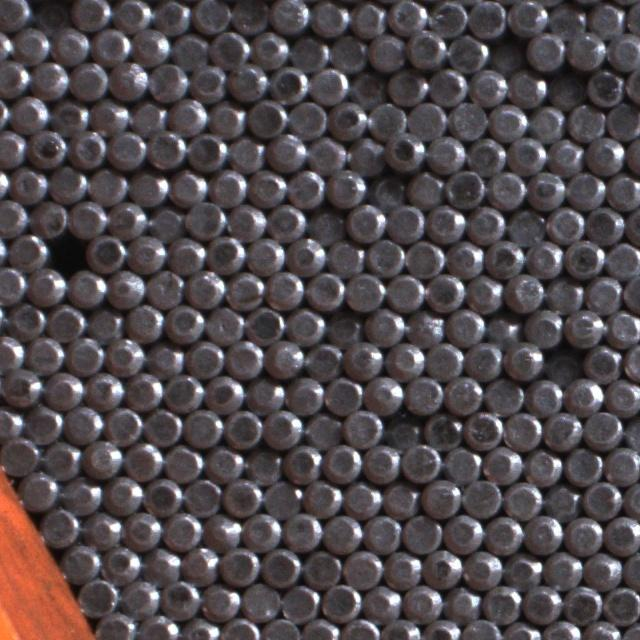tool: (38, 505, 79, 546), (26, 126, 66, 167), (60, 474, 101, 514), (386, 130, 426, 171), (60, 542, 100, 583), (482, 582, 522, 623), (422, 547, 462, 587), (502, 478, 542, 518), (261, 546, 301, 586), (582, 408, 622, 448), (466, 204, 506, 244), (582, 550, 622, 590), (446, 168, 486, 208), (321, 579, 361, 619), (364, 374, 404, 414), (200, 580, 240, 620), (504, 272, 544, 312), (47, 163, 87, 203), (442, 511, 482, 551), (161, 508, 201, 548), (264, 338, 304, 378), (462, 476, 502, 516), (448, 32, 488, 72), (240, 580, 280, 620), (462, 549, 502, 589), (382, 548, 422, 588), (406, 28, 446, 68), (81, 508, 121, 548), (85, 232, 125, 272), (184, 198, 224, 238), (160, 578, 200, 618), (524, 238, 564, 278), (565, 29, 605, 69), (22, 403, 62, 443), (442, 582, 482, 622), (462, 407, 502, 447), (280, 581, 320, 621), (244, 304, 284, 344), (78, 575, 119, 614), (146, 128, 185, 168), (343, 547, 383, 586), (468, 67, 508, 106), (347, 201, 386, 241), (44, 369, 83, 409), (164, 371, 204, 410), (563, 446, 602, 486), (522, 582, 561, 622), (185, 269, 225, 308), (220, 545, 259, 585), (164, 303, 204, 342), (223, 476, 262, 516), (402, 511, 441, 551), (67, 198, 106, 238), (267, 130, 306, 170), (302, 548, 342, 587), (284, 305, 324, 344), (62, 403, 102, 442), (404, 374, 443, 414), (542, 408, 581, 448), (120, 576, 159, 616), (288, 98, 327, 138), (246, 234, 285, 274), (68, 128, 107, 168), (19, 470, 58, 510), (322, 512, 361, 552), (362, 582, 401, 622), (262, 407, 301, 447), (585, 67, 625, 106), (563, 583, 602, 623), (106, 269, 146, 308), (186, 130, 225, 170), (6, 300, 45, 340), (322, 442, 361, 482), (123, 439, 162, 479), (182, 406, 221, 446), (366, 236, 405, 276), (148, 61, 188, 100), (442, 444, 481, 484), (484, 376, 524, 415), (401, 442, 440, 482), (364, 306, 403, 346), (582, 478, 621, 518), (106, 199, 146, 238), (305, 270, 344, 310), (103, 474, 142, 514), (522, 512, 561, 552), (426, 133, 466, 172), (485, 238, 524, 278), (367, 30, 406, 70), (107, 128, 146, 168), (565, 237, 604, 277), (205, 373, 245, 412), (26, 265, 65, 305), (245, 374, 284, 414), (466, 135, 506, 174), (183, 476, 222, 516), (29, 198, 68, 238), (2, 366, 41, 406), (82, 438, 122, 477), (206, 303, 245, 343), (7, 231, 47, 270), (404, 239, 444, 278), (483, 514, 523, 553), (585, 205, 625, 244), (0, 434, 39, 474), (144, 475, 183, 515), (345, 135, 385, 174), (268, 64, 307, 104), (328, 100, 367, 140), (368, 100, 407, 140), (382, 409, 422, 448), (210, 28, 250, 67), (168, 167, 207, 206), (88, 167, 127, 206), (143, 405, 182, 444), (323, 374, 362, 413), (12, 23, 51, 62), (444, 374, 483, 413), (565, 169, 604, 208), (189, 62, 228, 101), (9, 93, 48, 132), (267, 201, 306, 240), (428, 66, 467, 105), (566, 102, 605, 141), (543, 549, 582, 588), (422, 477, 461, 516), (342, 407, 381, 446), (67, 268, 106, 307), (424, 340, 463, 379), (564, 376, 603, 415), (84, 369, 123, 408), (487, 169, 526, 208), (242, 510, 281, 549), (545, 275, 584, 314), (386, 271, 425, 310), (30, 59, 69, 98), (105, 336, 144, 375), (387, 67, 426, 106), (309, 65, 348, 104), (42, 438, 81, 477), (128, 97, 167, 136), (282, 510, 321, 549), (203, 443, 242, 482), (109, 60, 148, 99), (423, 409, 462, 448), (483, 445, 522, 484), (581, 343, 620, 382), (384, 340, 423, 379), (306, 135, 345, 174), (282, 443, 321, 482), (586, 0, 625, 39), (142, 543, 181, 582), (101, 542, 140, 581), (346, 270, 384, 310), (524, 446, 562, 486), (224, 407, 262, 447), (325, 168, 365, 206), (123, 508, 161, 548), (426, 272, 464, 312), (168, 96, 208, 134), (544, 204, 584, 242), (503, 341, 541, 381), (246, 98, 286, 136), (128, 168, 166, 208), (564, 307, 602, 347), (464, 339, 502, 379), (502, 550, 542, 588), (584, 134, 622, 174), (104, 404, 142, 444), (51, 24, 89, 64), (584, 274, 622, 314), (564, 513, 602, 553), (408, 99, 446, 139), (227, 200, 265, 240), (426, 203, 464, 242), (225, 270, 264, 308), (402, 582, 440, 621), (92, 25, 130, 64), (146, 268, 184, 307), (26, 333, 64, 372), (266, 269, 304, 308), (125, 301, 163, 340), (526, 169, 564, 208), (208, 168, 247, 206), (251, 29, 289, 68), (524, 307, 562, 346), (488, 102, 526, 141), (543, 480, 581, 519), (465, 274, 504, 312), (164, 443, 202, 482), (127, 232, 165, 271), (449, 99, 487, 138), (503, 409, 541, 448), (285, 375, 323, 414), (342, 479, 381, 517), (66, 334, 104, 373), (526, 31, 564, 70), (525, 376, 563, 415), (69, 60, 108, 98), (46, 302, 84, 341), (286, 168, 324, 207), (329, 32, 367, 71), (362, 512, 400, 551), (386, 202, 424, 241), (225, 338, 263, 377), (362, 443, 400, 482), (208, 233, 246, 272), (166, 235, 205, 273), (8, 164, 46, 203), (507, 134, 545, 173), (228, 62, 266, 101), (381, 478, 419, 517), (304, 341, 342, 380), (347, 67, 386, 105), (286, 236, 325, 274), (185, 338, 223, 377), (243, 445, 281, 484), (444, 238, 483, 276), (484, 309, 522, 348), (145, 339, 184, 377), (89, 97, 128, 135), (207, 99, 245, 138), (343, 339, 382, 377), (546, 71, 584, 110), (303, 477, 341, 516), (50, 96, 88, 135), (306, 205, 344, 244), (262, 478, 300, 517), (406, 307, 444, 346), (547, 2, 586, 40), (47, 232, 86, 270), (603, 444, 640, 484), (603, 584, 640, 624), (603, 514, 640, 554), (468, 0, 508, 37), (124, 371, 162, 409), (248, 168, 286, 206), (446, 306, 484, 344), (228, 133, 266, 171), (507, 69, 545, 107), (406, 169, 444, 207), (132, 26, 170, 64), (324, 308, 362, 346), (203, 510, 241, 548), (303, 409, 341, 447), (326, 238, 364, 276), (85, 304, 123, 342), (546, 135, 584, 173), (181, 543, 219, 581), (290, 33, 328, 71), (542, 347, 580, 385), (368, 172, 406, 210), (604, 376, 640, 416), (428, 0, 468, 36), (348, 0, 386, 37), (172, 31, 210, 68), (146, 203, 183, 241), (488, 36, 525, 74), (506, 208, 544, 245), (604, 308, 640, 347), (528, 104, 564, 142), (310, 0, 348, 36), (388, 0, 427, 35), (605, 241, 640, 280), (230, 0, 269, 35), (606, 171, 640, 211), (606, 100, 640, 140), (508, 0, 546, 35), (607, 30, 640, 70), (152, 0, 190, 34), (270, 0, 310, 32), (192, 0, 231, 32), (31, 0, 69, 32), (112, 0, 151, 31), (96, 610, 136, 640), (136, 610, 176, 640), (72, 0, 110, 30), (0, 56, 29, 95), (0, 197, 27, 236), (300, 614, 340, 640), (260, 614, 300, 640), (219, 615, 259, 640), (420, 615, 460, 640), (0, 128, 26, 166), (0, 264, 25, 303), (0, 332, 24, 372), (180, 616, 220, 640), (462, 616, 501, 640), (340, 617, 380, 640), (380, 617, 420, 640), (0, 0, 30, 29), (580, 619, 620, 640), (542, 618, 580, 640), (0, 403, 21, 441), (501, 620, 540, 640), (623, 479, 640, 518), (623, 414, 640, 452)
